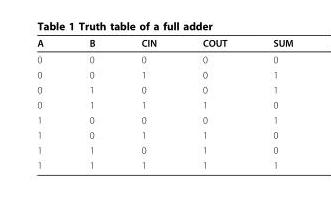table: (36, 36, 292, 170)
table column: (178, 36, 249, 170), (117, 36, 178, 170), (65, 36, 117, 170), (249, 36, 292, 170), (36, 36, 65, 170)
table column header: (36, 36, 292, 50)
table row: (36, 50, 292, 66), (36, 96, 292, 112), (36, 66, 292, 81), (36, 81, 292, 96), (36, 112, 292, 127), (36, 127, 292, 142), (36, 142, 292, 157), (36, 36, 292, 50), (36, 157, 292, 170)
